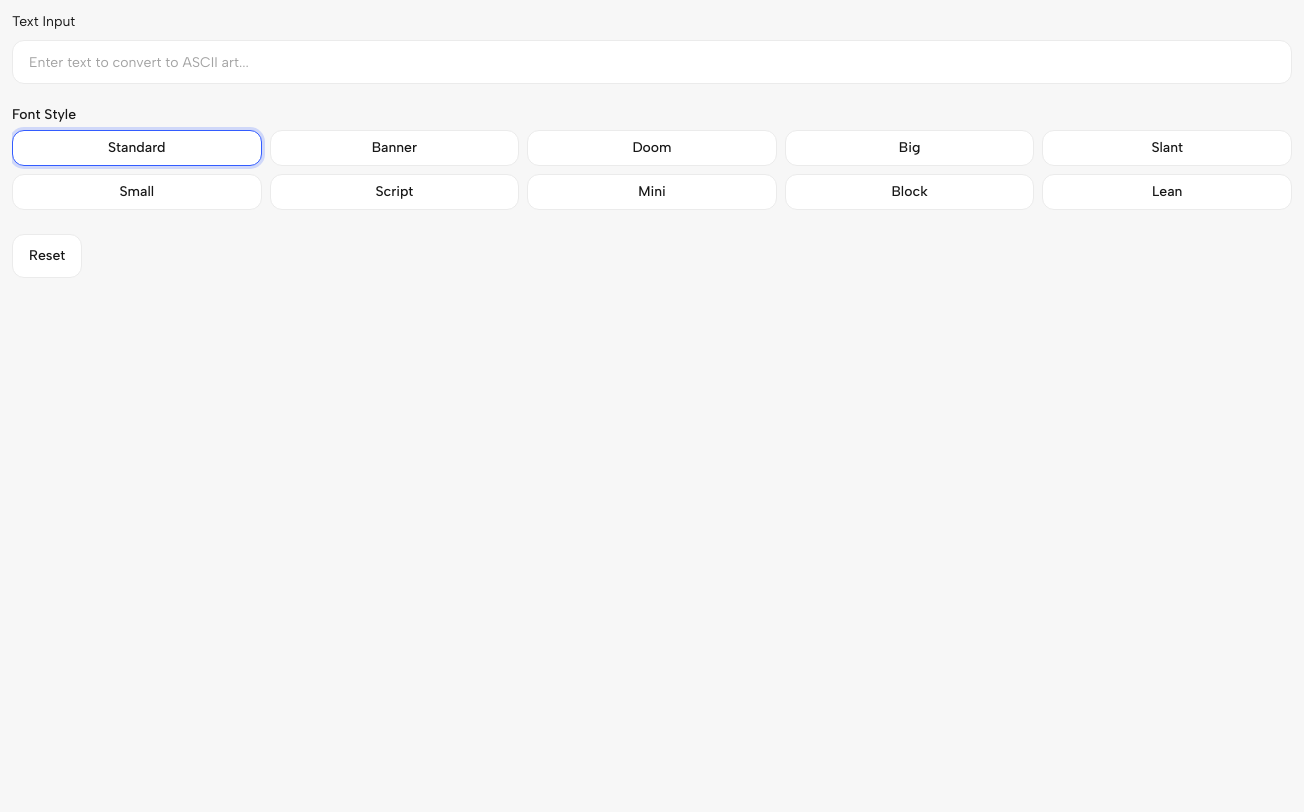
AsciiArtTool › generates ASCII art when text is entered
This screenshot has width=1304, height=812.
In the field: (652, 62) [12,40,1292,84], type "Hi"
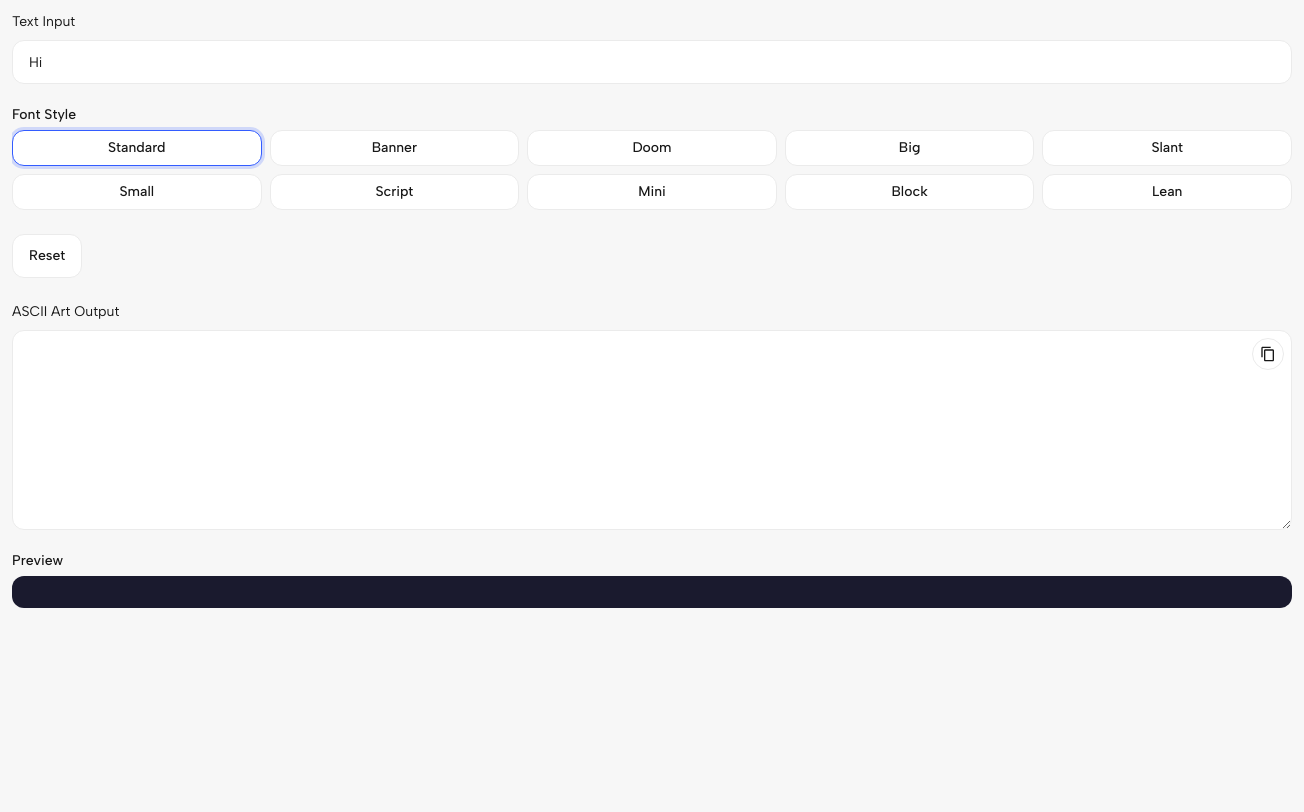
Check: the text "ASCII Art Output" is shown, box [12,303,119,320]
Check: the text "Preview" is shown, box [12,552,63,569]
